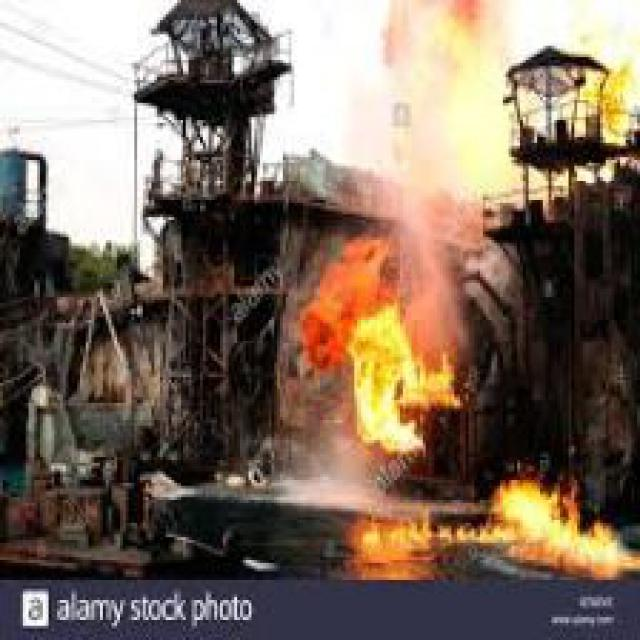fire: (300, 237, 460, 457), (360, 457, 637, 577)
